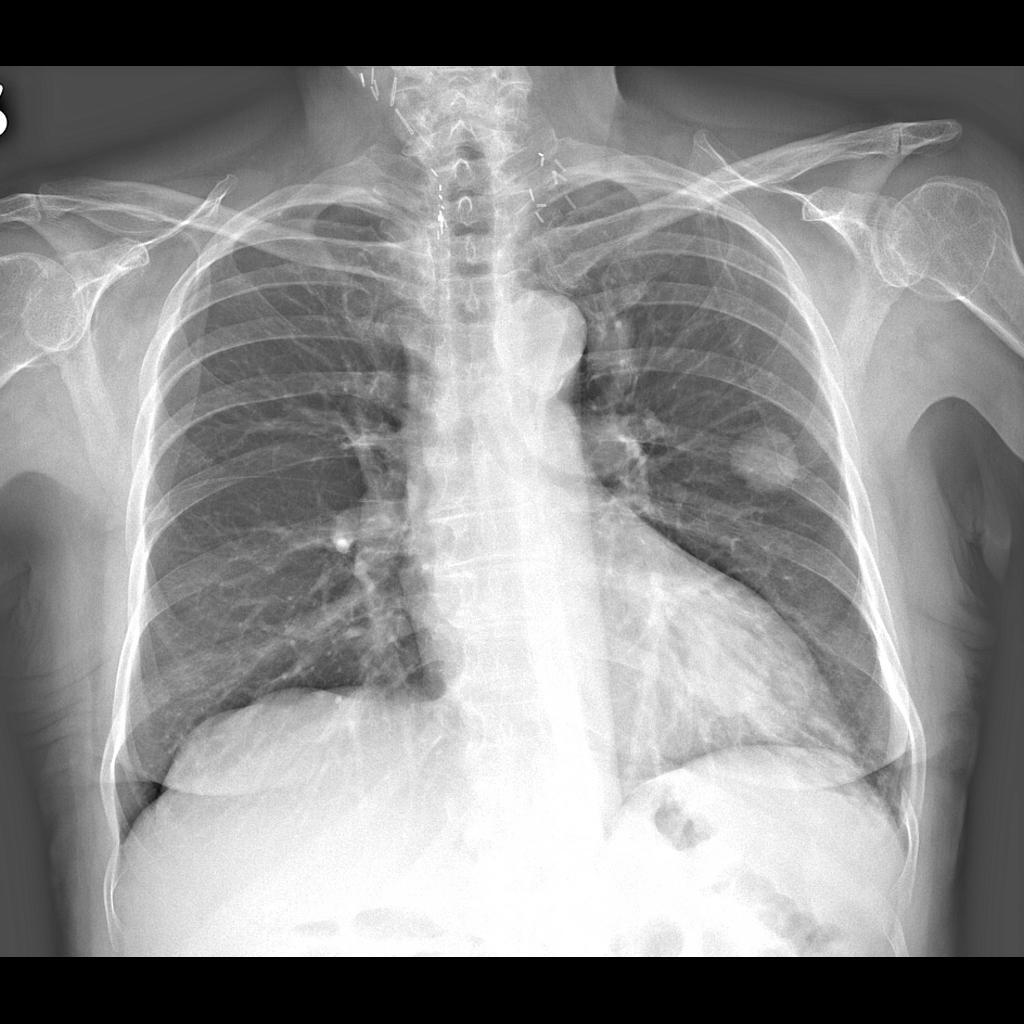Nodule: (710, 409, 818, 502)
